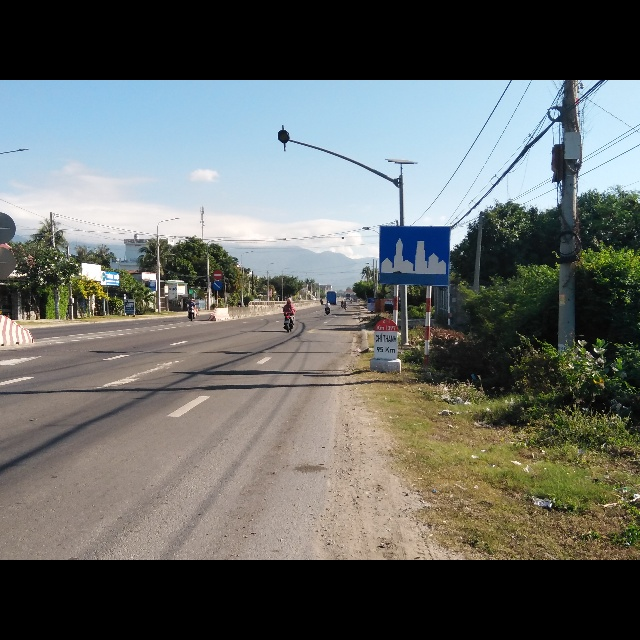Khu đông dân cư: (378, 224, 450, 287)
